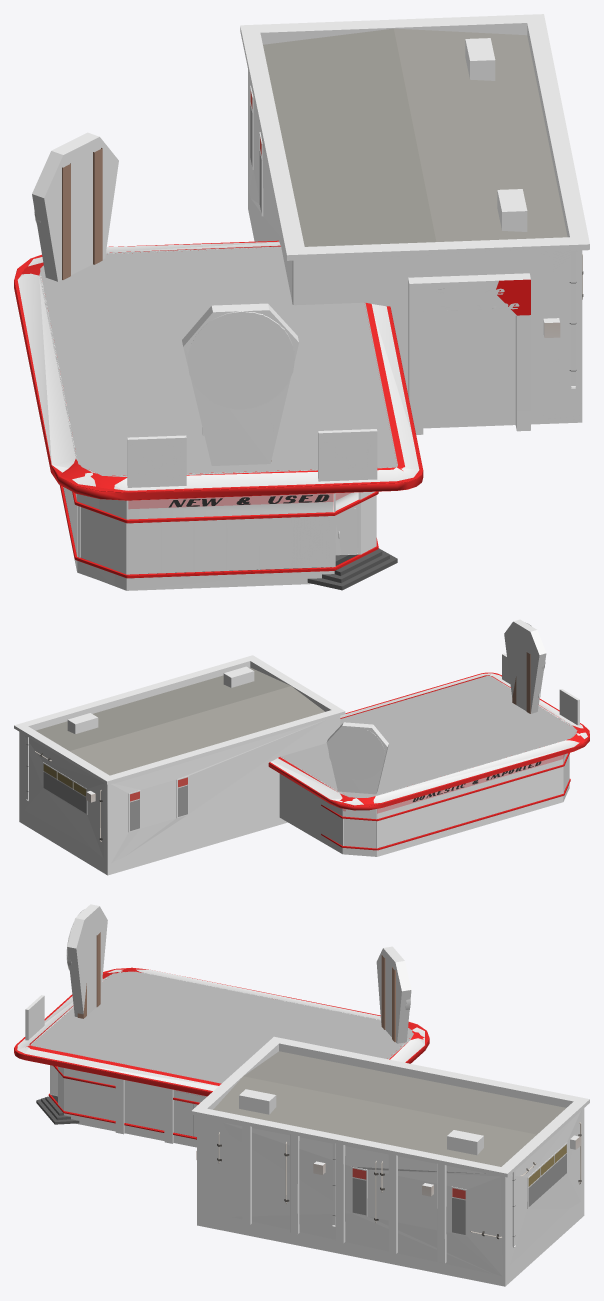
File: dealership_mid.dae
The picture shows the model from 3 angles, top to bottom: view 1: azimuth 30°, elevation 25°; view 2: azimuth 150°, elevation 25°; view 3: azimuth 270°, elevation 25°; orthographic projection. The views are drawn at different scales.
Visible parts, largest first — view 1: dealership_mid_L400, dealership_mid_L200, Colmesh_dealership_mid-1; view 2: dealership_mid_L400, dealership_mid_L200, Colmesh_dealership_mid-1; view 3: dealership_mid_L200, dealership_mid_L400, Colmesh_dealership_mid-1.
Part boxes in pixels (x1,y1,x2,y2): dealership_mid_L400: [14, 14, 589, 590]; dealership_mid_L200: [14, 14, 589, 589]; Colmesh_dealership_mid-1: [17, 14, 589, 590]; dealership_mid_L400: [15, 623, 589, 875]; dealership_mid_L200: [17, 624, 589, 874]; Colmesh_dealership_mid-1: [14, 619, 587, 853]; dealership_mid_L200: [14, 910, 589, 1285]; dealership_mid_L400: [14, 909, 588, 1286]; Colmesh_dealership_mid-1: [17, 904, 589, 1285].
Size of the model in its own units: 38.41 by 38.5 by 13.28.
